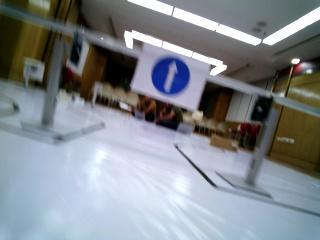straight: (135, 44, 204, 107)
